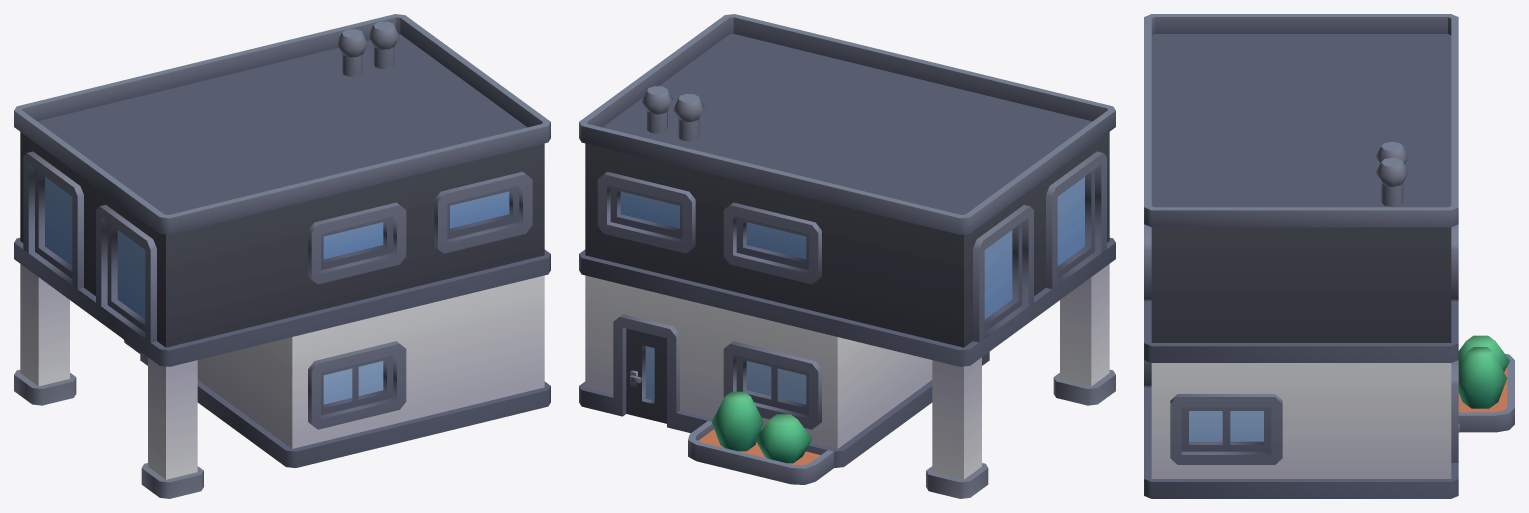
The model's file is suburban.building_type_p.glb.
The picture shows the model from 3 angles, left to right: view 1: azimuth 30°, elevation 25°; view 2: azimuth 150°, elevation 25°; view 3: azimuth 270°, elevation 25°; orthographic projection. The views are drawn at different scales.
Parts seen in each view (by area): view 1: building-type-p; view 2: building-type-p; view 3: building-type-p.
Part boxes in pixels (x1,y1,x2,y2): building-type-p: (14, 14, 550, 498); building-type-p: (579, 14, 1115, 498); building-type-p: (1144, 14, 1514, 498).
Bounding box in the file's own units: 6.82 × 5.05 × 5.45.
1 material, 1 textured.
